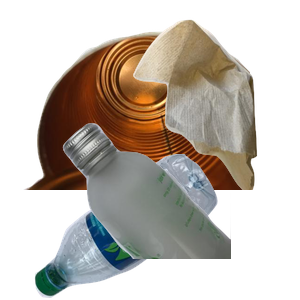glass: (60, 120, 300, 300)
metal: (21, 29, 261, 209)
plastic: (32, 154, 242, 300)
trash: (131, 17, 300, 197)
